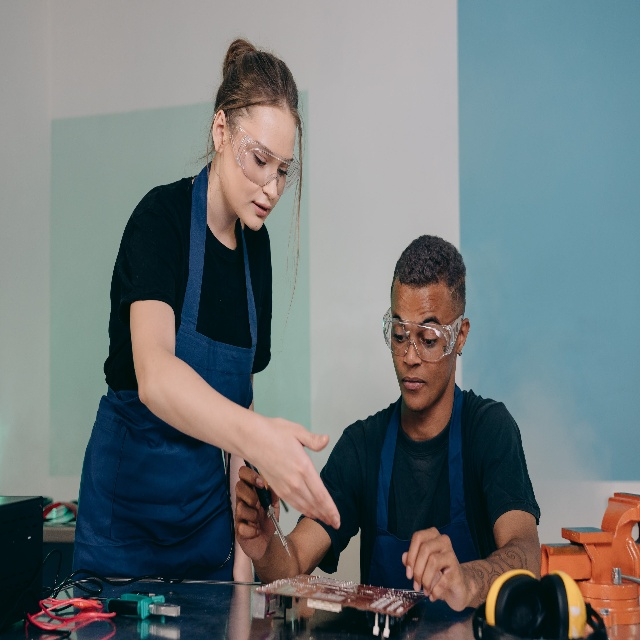Gafas: (380, 305, 466, 367), (227, 121, 297, 190)
Sin_guantes: (256, 411, 340, 530), (399, 524, 465, 612), (234, 462, 280, 557)
